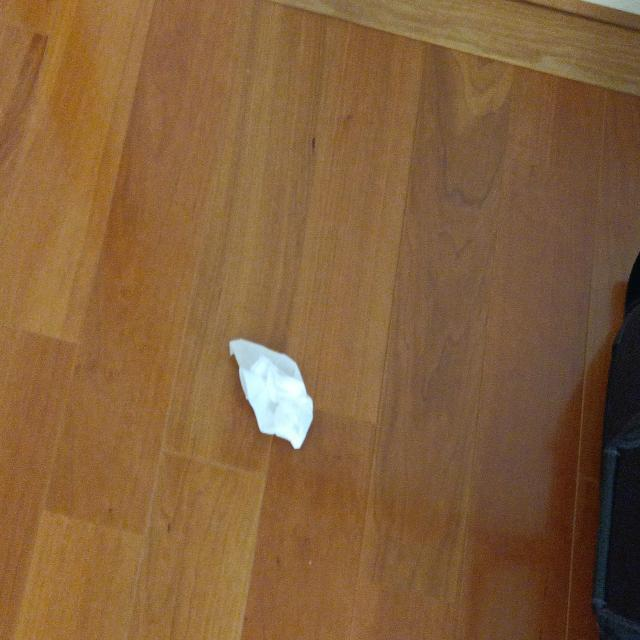Paper: (207, 326, 340, 485)
